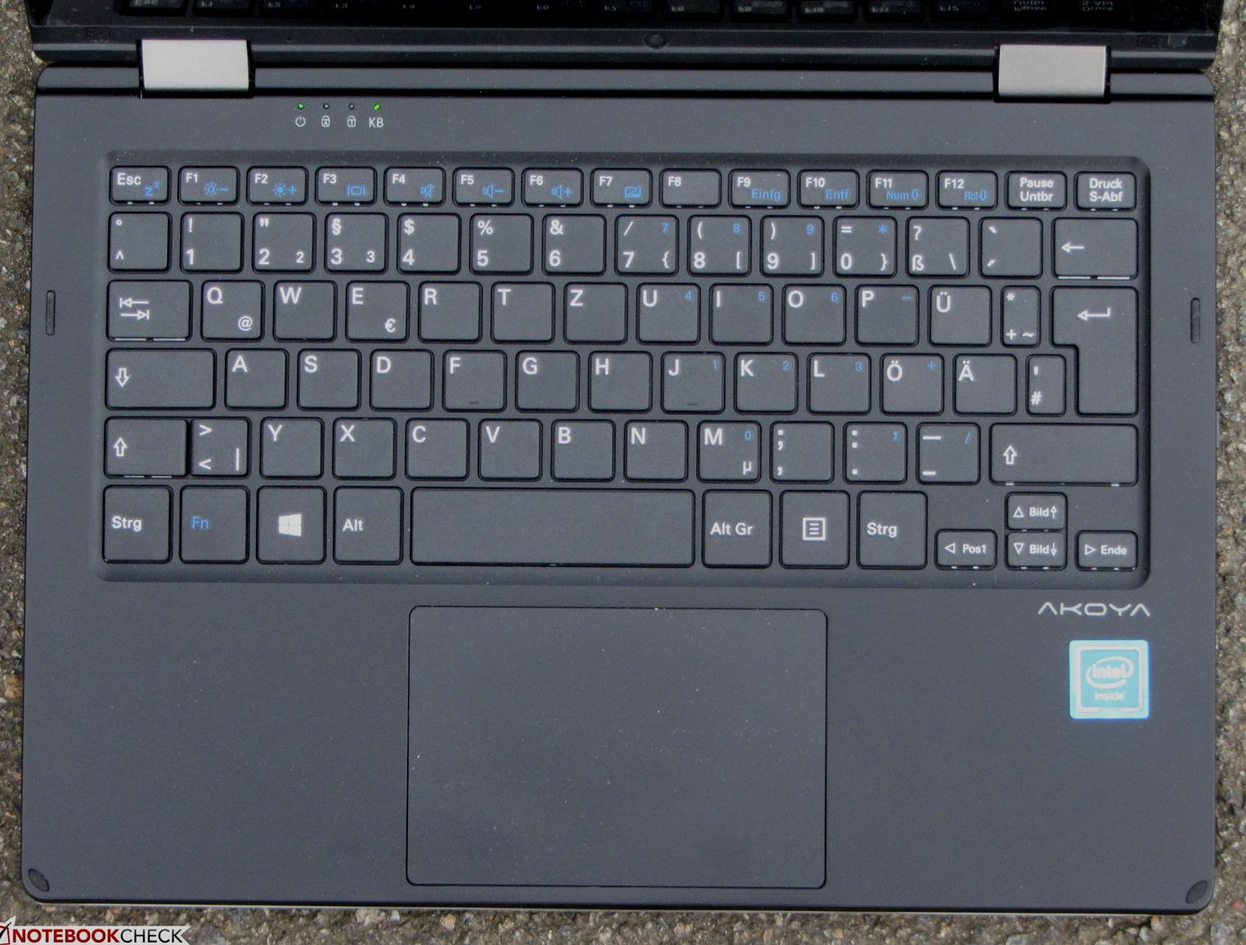0: (831, 213, 896, 276)
1: (177, 208, 240, 271)
2: (249, 208, 313, 270)
3: (320, 208, 384, 271)
4: (393, 209, 457, 271)
5: (465, 209, 531, 271)
6: (539, 209, 603, 271)
7: (612, 211, 677, 273)
8: (685, 211, 749, 274)
9: (757, 212, 823, 275)
a: (222, 344, 285, 407)
accent: (975, 213, 1039, 275)
ae: (949, 350, 1015, 413)
alt-left: (327, 481, 399, 563)
altgr-right: (698, 485, 771, 567)
b: (547, 414, 613, 478)
c: (401, 414, 467, 478)
caret: (105, 208, 165, 268)
comma: (766, 417, 832, 481)
d: (365, 346, 430, 409)
del: (1051, 213, 1137, 275)
e: (341, 275, 407, 340)
enter: (1050, 281, 1136, 414)
f: (438, 346, 504, 409)
g: (512, 346, 576, 410)
h: (585, 347, 649, 410)
hash: (1023, 350, 1062, 412)
i: (706, 279, 771, 343)
j: (658, 347, 723, 411)
k: (732, 348, 796, 411)
keyboard: (83, 146, 1160, 586)
l: (805, 348, 868, 412)
less: (186, 412, 247, 474)
m: (693, 417, 759, 481)
minus: (912, 419, 978, 481)
n: (621, 416, 685, 479)
o: (779, 280, 845, 343)
oe: (877, 349, 942, 413)
p: (852, 280, 918, 344)
plus: (997, 281, 1038, 344)
point: (840, 418, 906, 481)
q: (197, 276, 262, 338)
r: (415, 277, 479, 340)
s: (293, 345, 357, 408)
shift-left: (100, 412, 182, 475)
shift-lock: (101, 343, 213, 407)
shift-right: (987, 417, 1136, 482)
space: (409, 482, 692, 567)
ss: (902, 213, 966, 275)
strg-left: (95, 480, 168, 562)
strg-right: (851, 486, 926, 568)
t: (487, 277, 552, 341)
tab: (101, 275, 187, 338)
u: (634, 279, 698, 343)
ue: (924, 281, 989, 345)
v: (475, 414, 540, 477)
w: (269, 275, 333, 339)
x: (329, 414, 393, 477)
y: (257, 413, 321, 477)
z: (561, 278, 625, 342)
